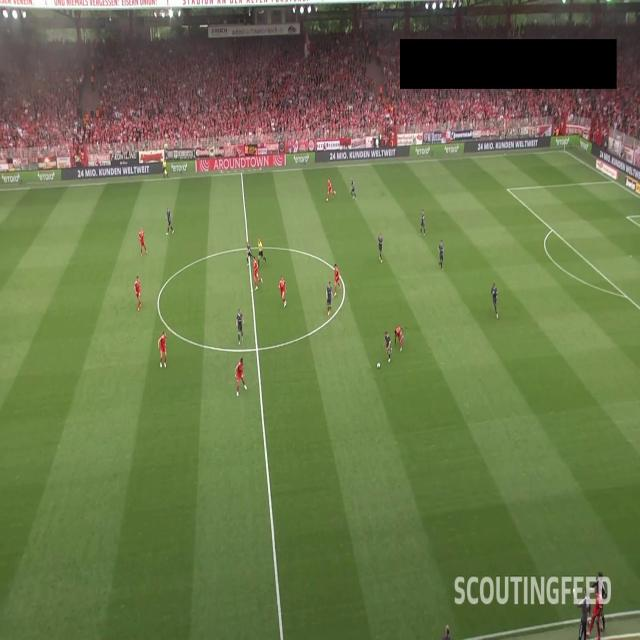Ball: (376, 363, 381, 369)
Referee: (255, 236, 267, 268), (161, 157, 170, 179)
TEAM 1: (586, 585, 602, 640), (235, 358, 247, 395), (158, 331, 169, 368), (393, 326, 407, 351), (253, 258, 263, 292), (278, 276, 287, 308), (138, 228, 148, 256), (134, 276, 142, 311), (325, 177, 336, 202), (334, 264, 342, 298)
TEAM 2: (490, 282, 500, 318), (382, 331, 393, 362), (235, 309, 244, 343), (166, 207, 175, 237), (245, 239, 254, 267), (326, 280, 333, 315), (377, 234, 384, 264), (420, 210, 427, 237), (438, 240, 444, 270), (350, 177, 357, 200)
